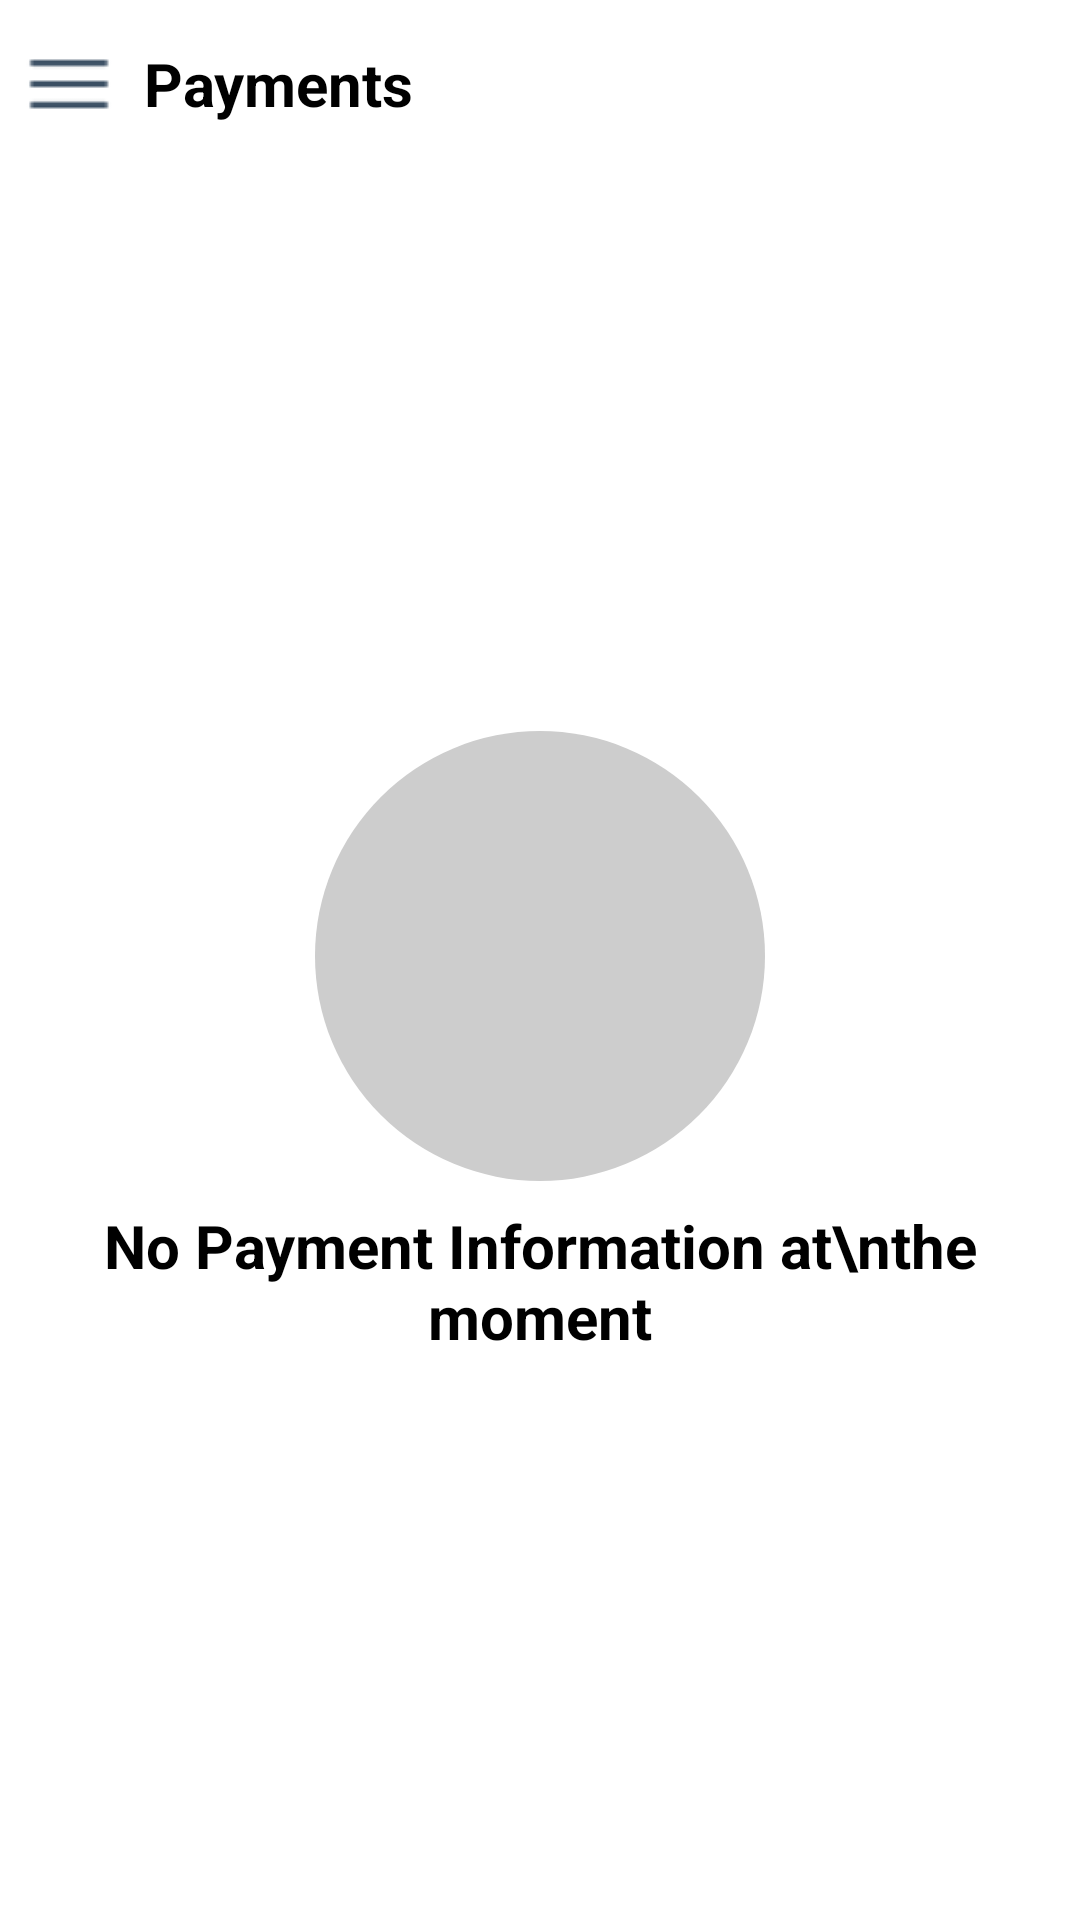

Locate icon controls on the screen. Image size 1080 × 1920, boxes as (x1, y1, x2, y2).
menu: (29, 59, 109, 109)
